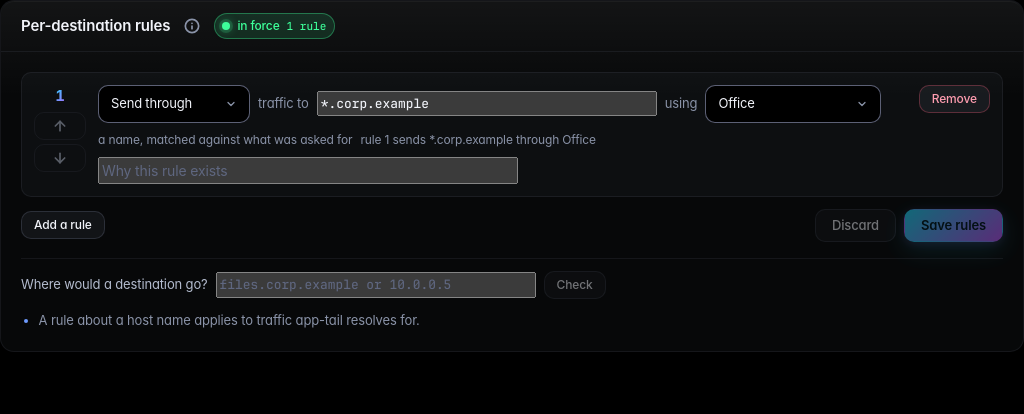
Test: writing the rules › keeps the edited rows on screen with the reason a write was refused
Type "*.corp.test" into the field named "Rule 1: destination" at (487, 104), box [317, 91, 657, 116]
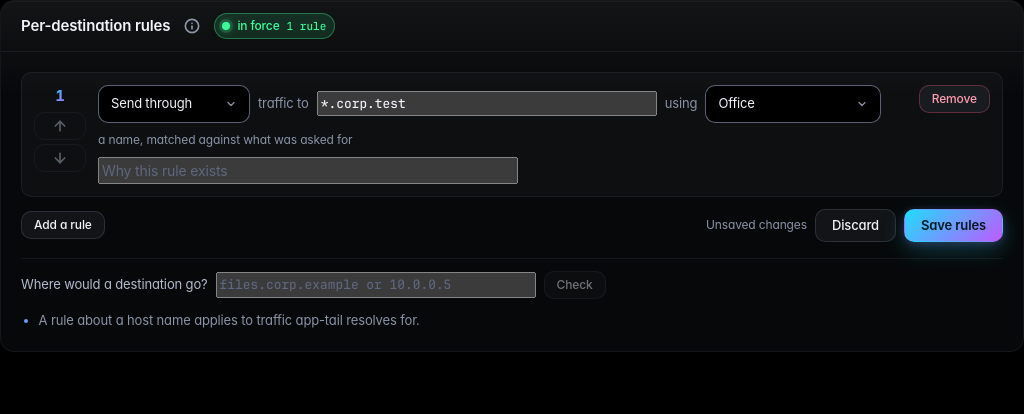
Click the button "Save rules" at (954, 225), box [904, 208, 1003, 242]
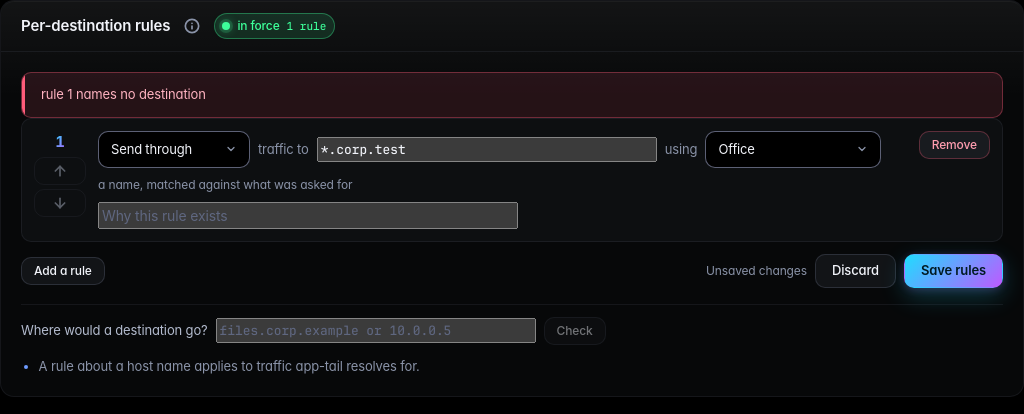
Expected: the text "rule 1 names no destination" is shown, [21, 72, 1003, 118]
